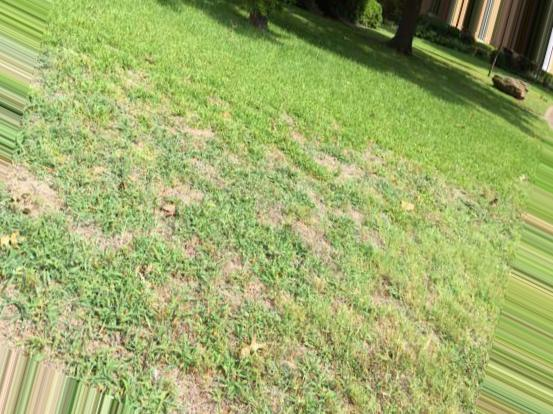patch: (17, 174, 64, 216), (179, 359, 211, 406), (169, 179, 207, 206), (336, 164, 370, 186)
